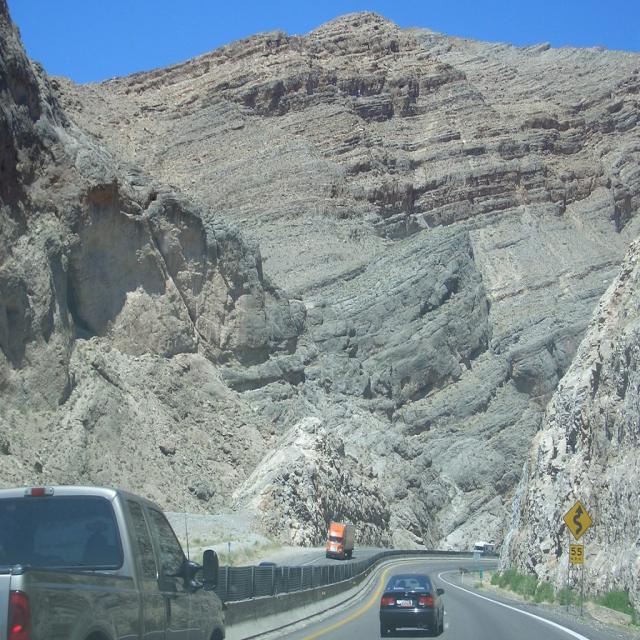car: (380, 572, 443, 636)
